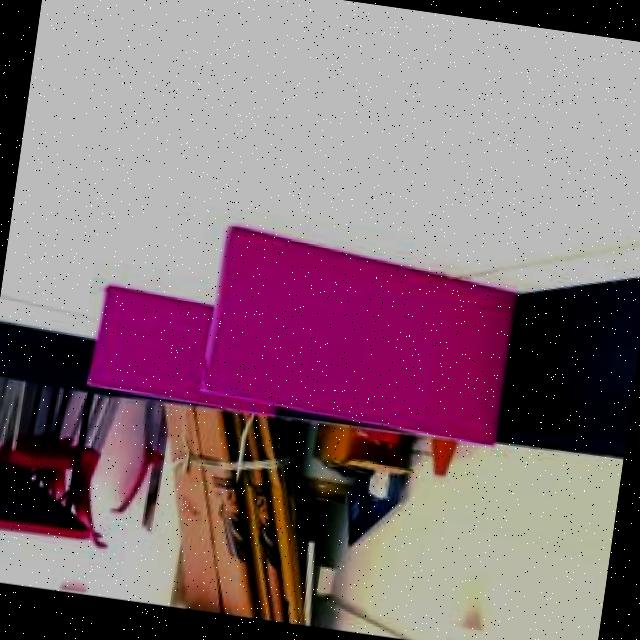xparking: (208, 244, 518, 432), (93, 289, 208, 402)
